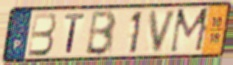1: (129, 9, 144, 55)
B: (84, 9, 118, 57), (26, 11, 58, 58)
M: (167, 6, 212, 55)
T: (63, 12, 87, 55)
V: (148, 8, 180, 55)
